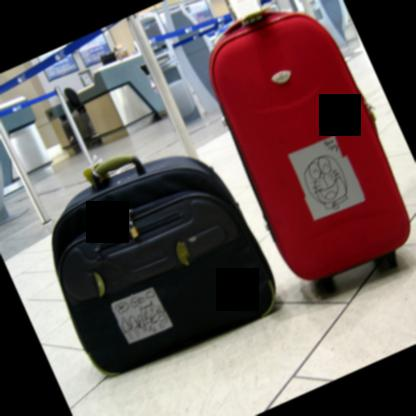suitcase: (205, 4, 412, 302), (51, 154, 277, 378)
